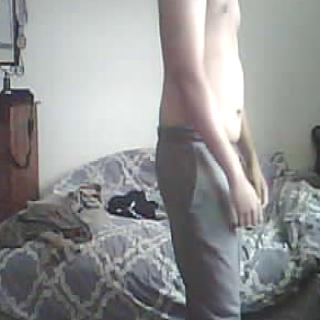Gray Sweatpants: (151, 129, 251, 320)
